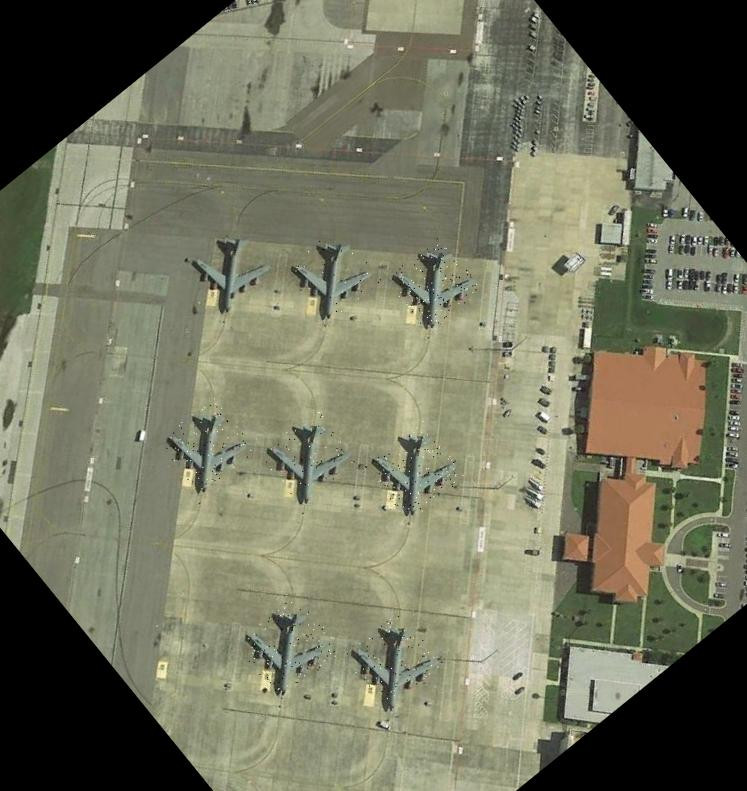A14: (234, 593, 342, 700), (363, 418, 468, 522), (341, 610, 445, 714), (256, 406, 358, 508), (180, 219, 282, 320), (283, 223, 383, 323), (156, 396, 256, 496), (384, 234, 482, 332)
